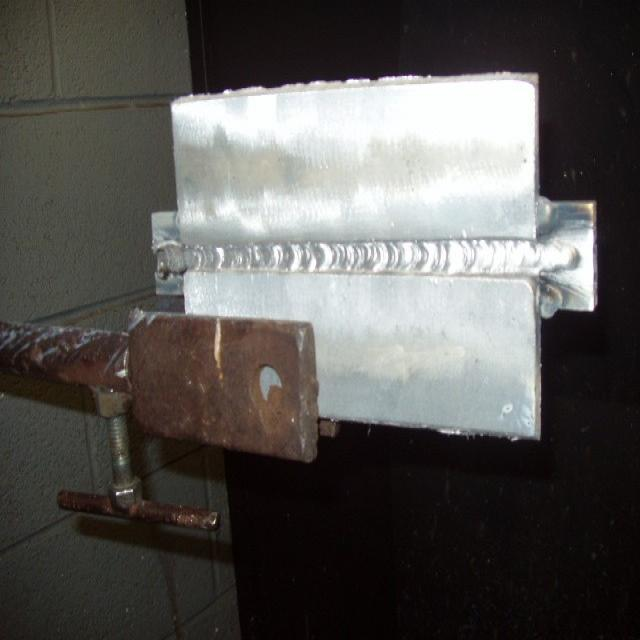Good Weld: (183, 234, 536, 276)
